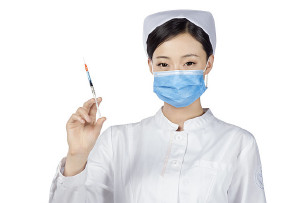face_mask: (152, 35, 209, 108)
